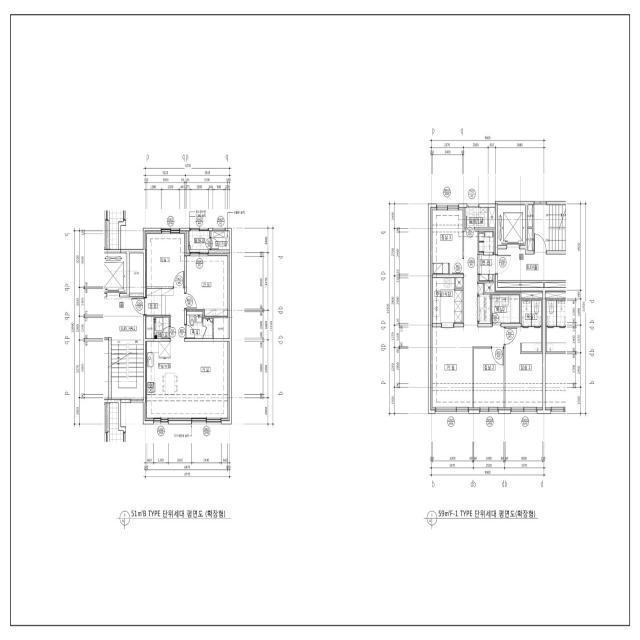space_balconi: (189, 231, 209, 250)
space_bedroom: (505, 327, 543, 410), (186, 253, 229, 316), (145, 231, 186, 286), (431, 207, 464, 274), (474, 349, 504, 410)
space_dressroom: (520, 327, 541, 352)
space_elevator: (498, 205, 525, 245), (104, 253, 127, 293)
space_elevator_hall: (498, 245, 566, 280), (104, 297, 144, 337)
space_front: (146, 289, 165, 315), (479, 253, 495, 281)
space_kitchen: (145, 342, 177, 420), (431, 278, 463, 323)
space_living_room: (431, 229, 504, 410), (165, 289, 229, 420)
space_multipurpose_space: (479, 294, 490, 323)
space_other: (130, 253, 143, 293), (479, 229, 495, 253), (214, 318, 229, 339), (498, 282, 543, 287), (146, 317, 153, 339), (521, 291, 543, 298), (489, 207, 495, 227), (528, 205, 533, 227), (545, 282, 566, 287), (528, 229, 533, 250), (485, 283, 495, 292), (456, 278, 463, 287)
space_outdoor_room: (466, 207, 487, 227), (211, 231, 229, 250)
space_staircase: (111, 337, 143, 399), (534, 205, 566, 251)
space_toilet: (492, 294, 520, 323), (187, 312, 212, 338), (521, 300, 541, 326), (155, 317, 169, 339)
